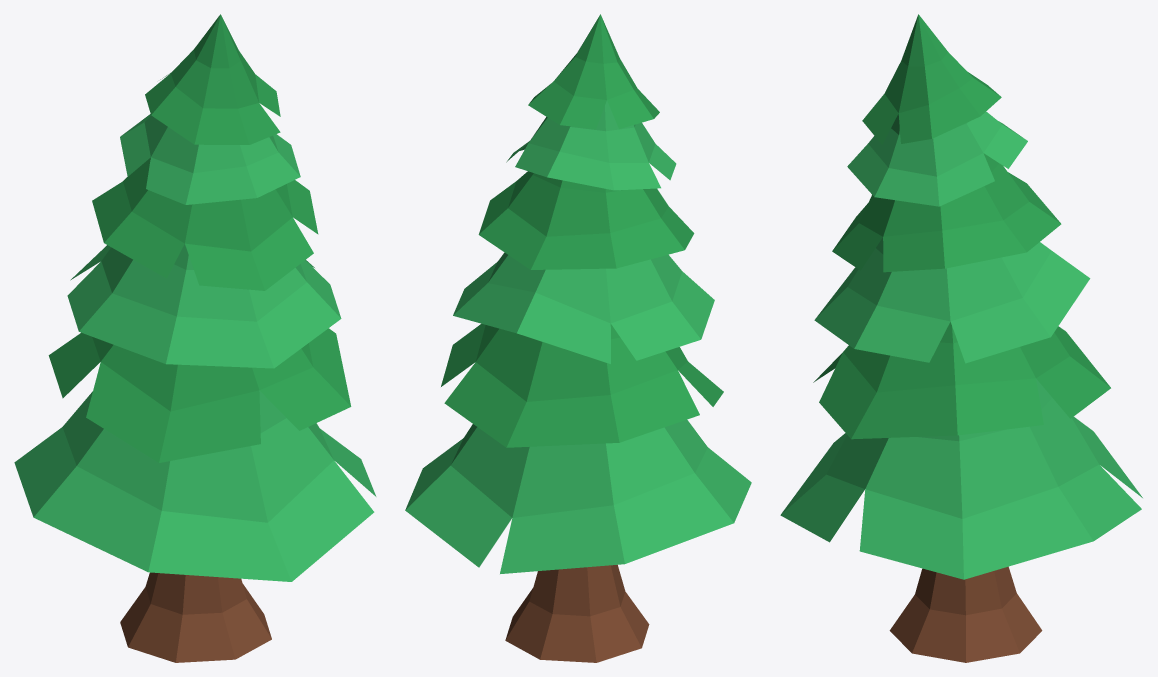
File: Tree_2.fbx
The picture shows the model from 3 angles, left to right: view 1: azimuth 30°, elevation 25°; view 2: azimuth 150°, elevation 25°; view 3: azimuth 270°, elevation 25°; orthographic projection. The views are drawn at different scales.
Parts seen in each view (by area): view 1: Tree_1.014; view 2: Tree_1.014; view 3: Tree_1.014.
Boxes of the visible parts, box(x1,y1,x2,y2) form: Tree_1.014: box(14, 14, 376, 662); Tree_1.014: box(405, 14, 751, 662); Tree_1.014: box(780, 14, 1142, 662).
Bounding box in the file's own units: 2.5 × 2.47 × 4.63.
